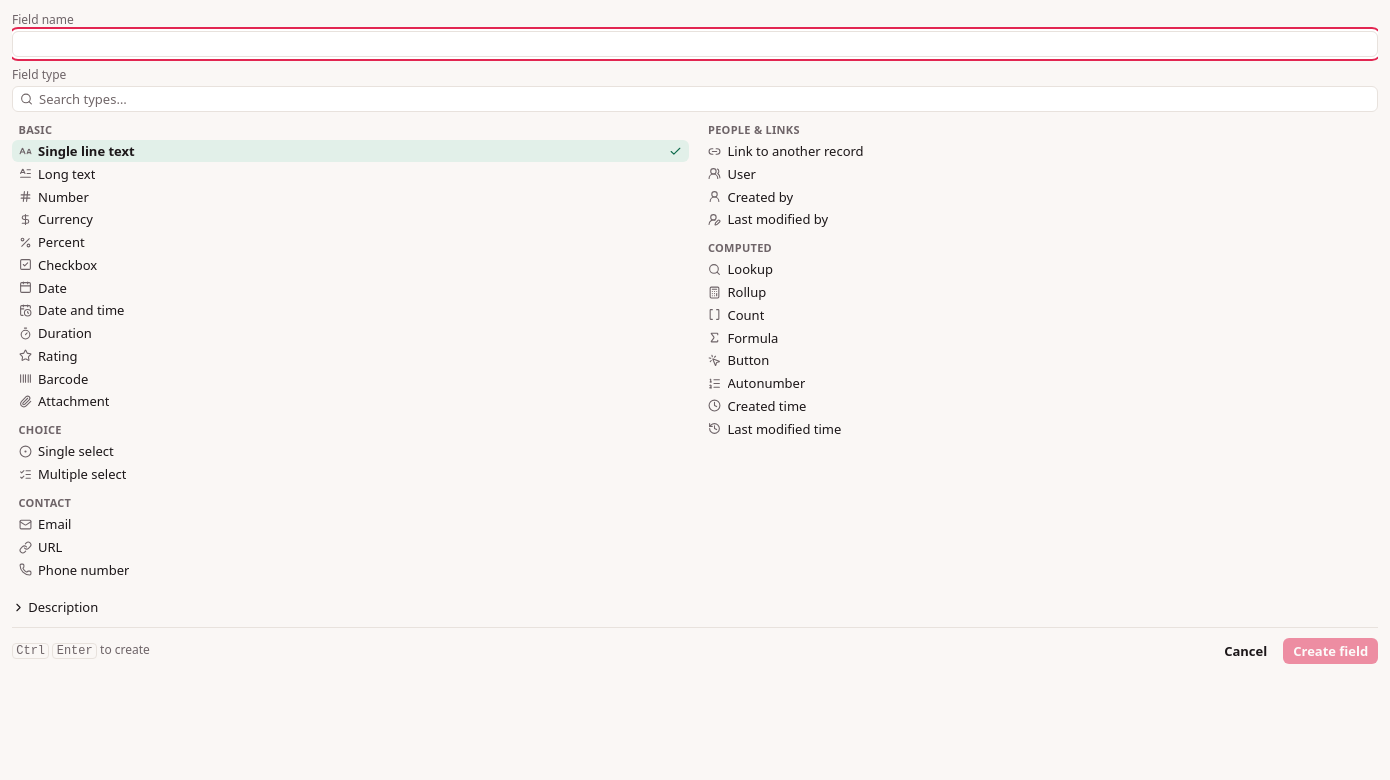
Test case: FieldEditor: lookup, rollup and count (#82) › asks for the missing options before any request
The image size is (1390, 780).
Type "Names" into the field labelled "Field name" at [695, 44], box [12,31,1378,57]
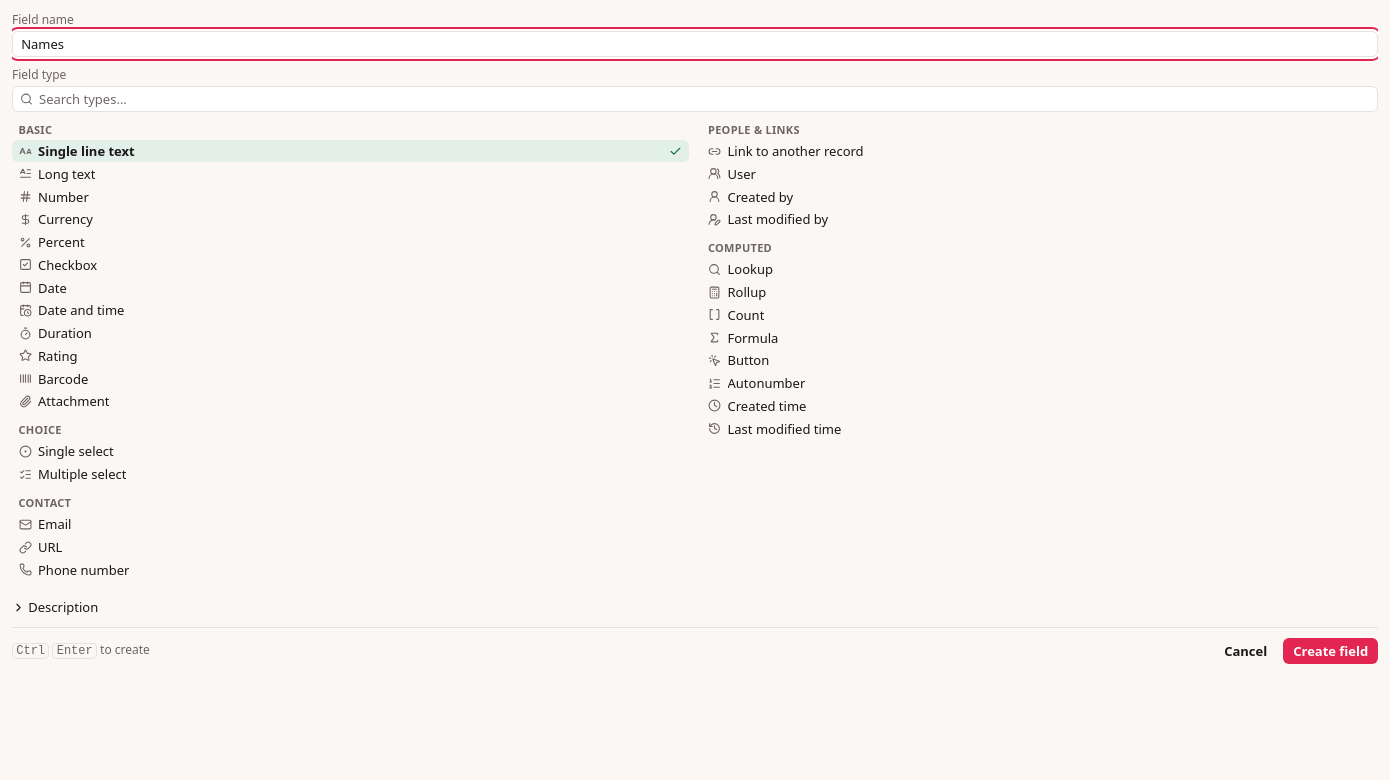
Type "Lookup" into the dropdown named "Search field types" at [695, 99], box [12,86,1378,112]
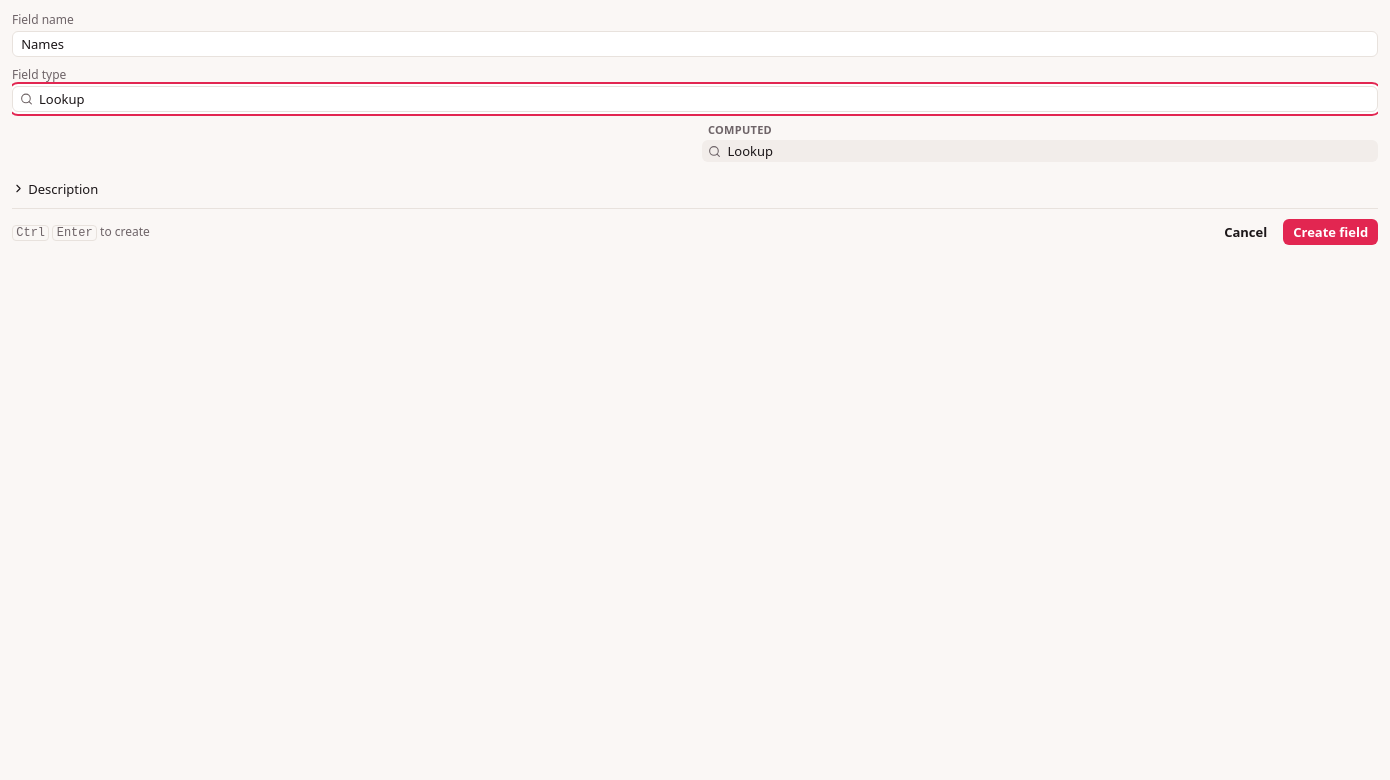
Click the option "Lookup" at [750, 151], box [702,140,1378,162]
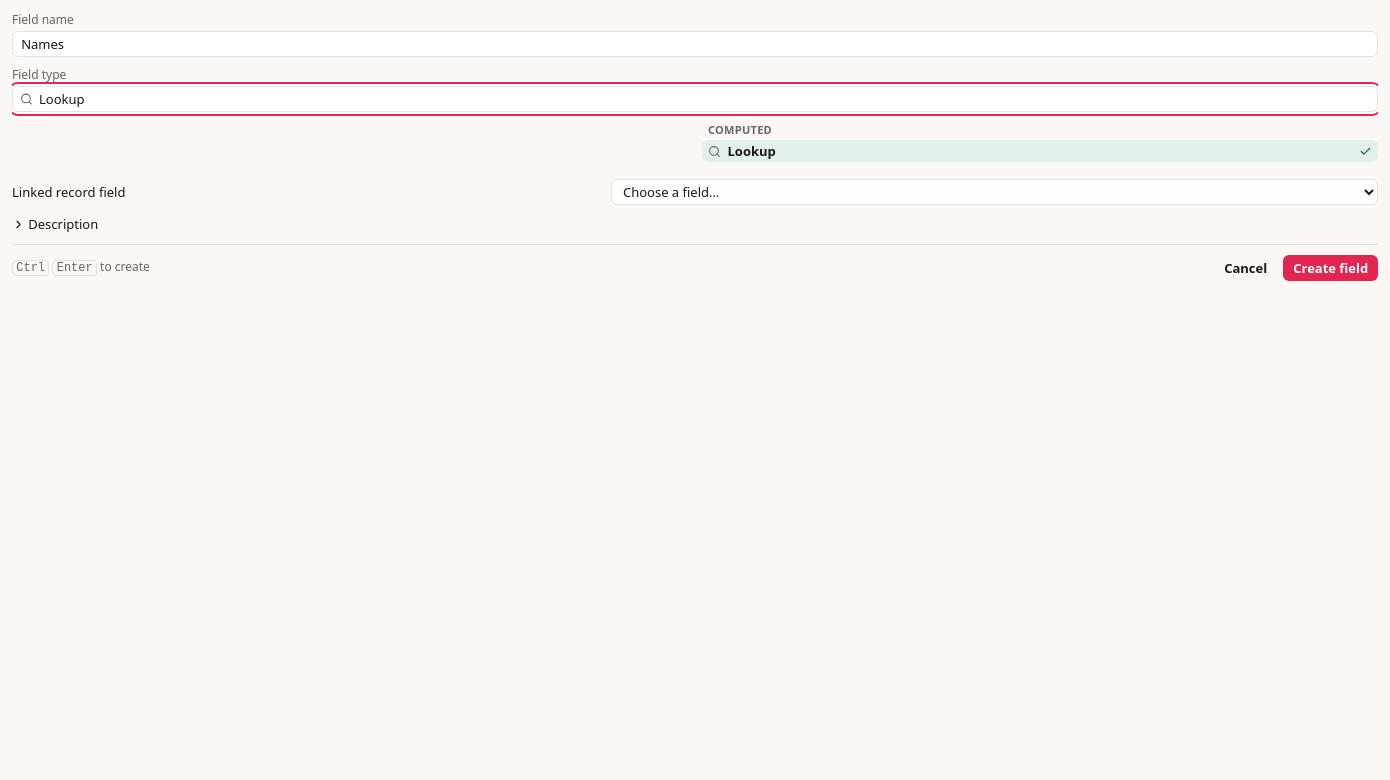
Click the button "Create field" at [1331, 268], box [1284,255,1378,281]
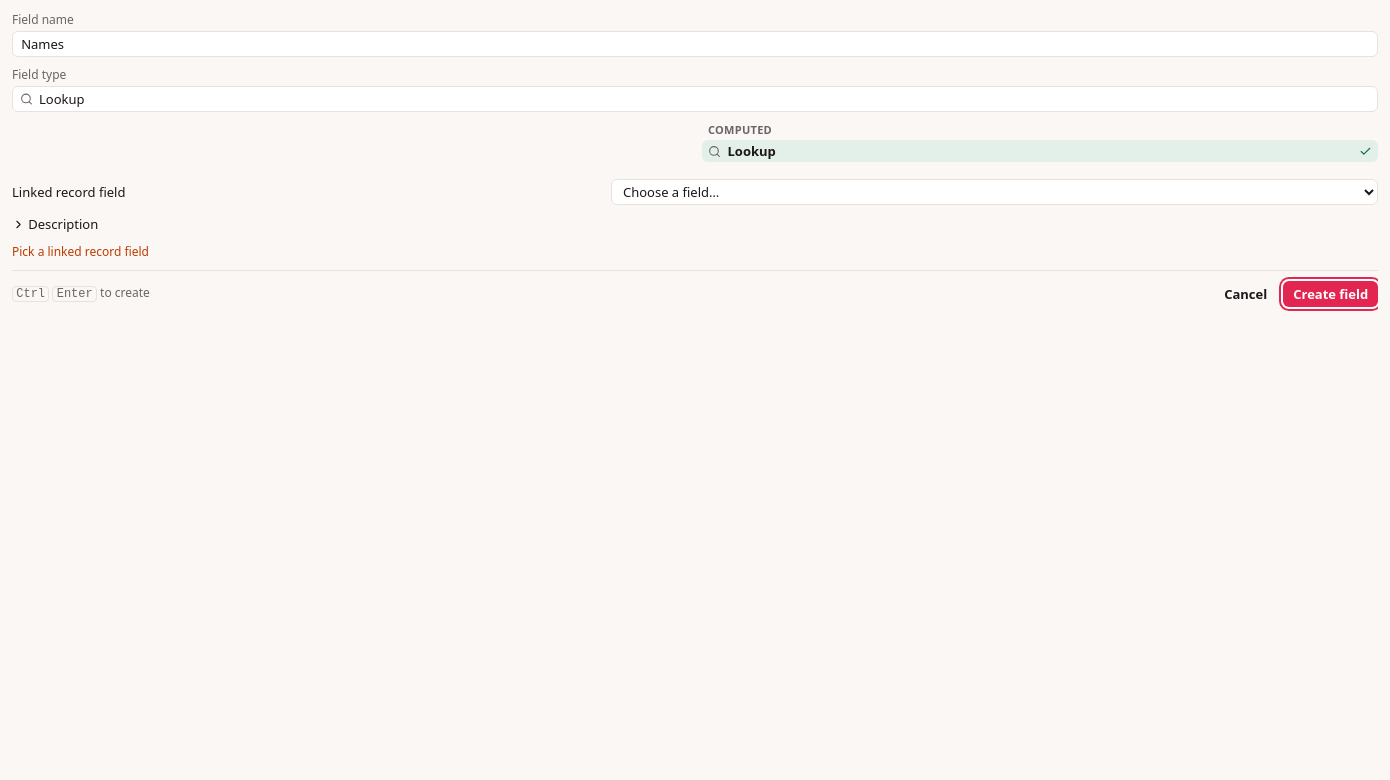
Check: the message reads "Pick a linked record field", box [12,243,149,260]
Select "Project" in the dropdown labelled "Linked record field" at [995, 192], box [611,179,1378,205]
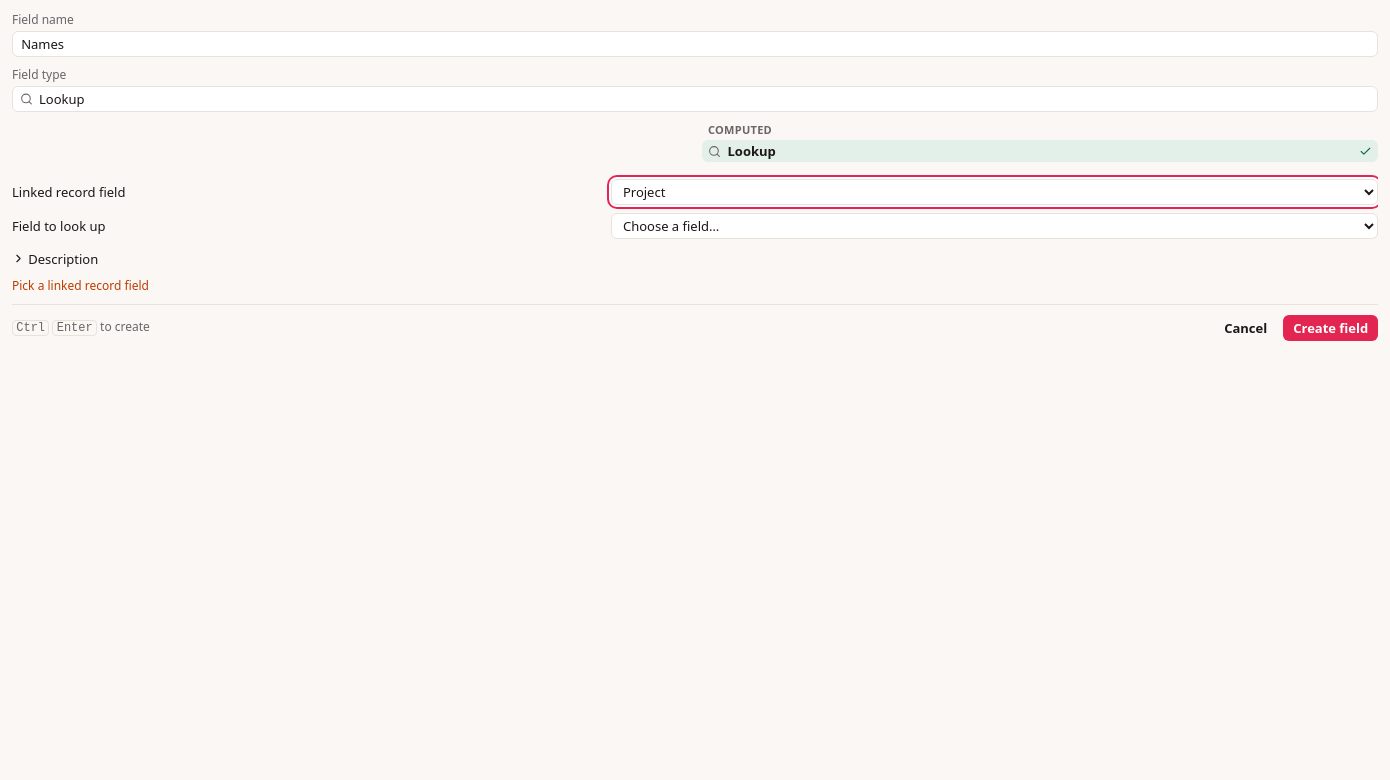
Click the button "Create field" at [1331, 328], box [1284,315,1378,341]
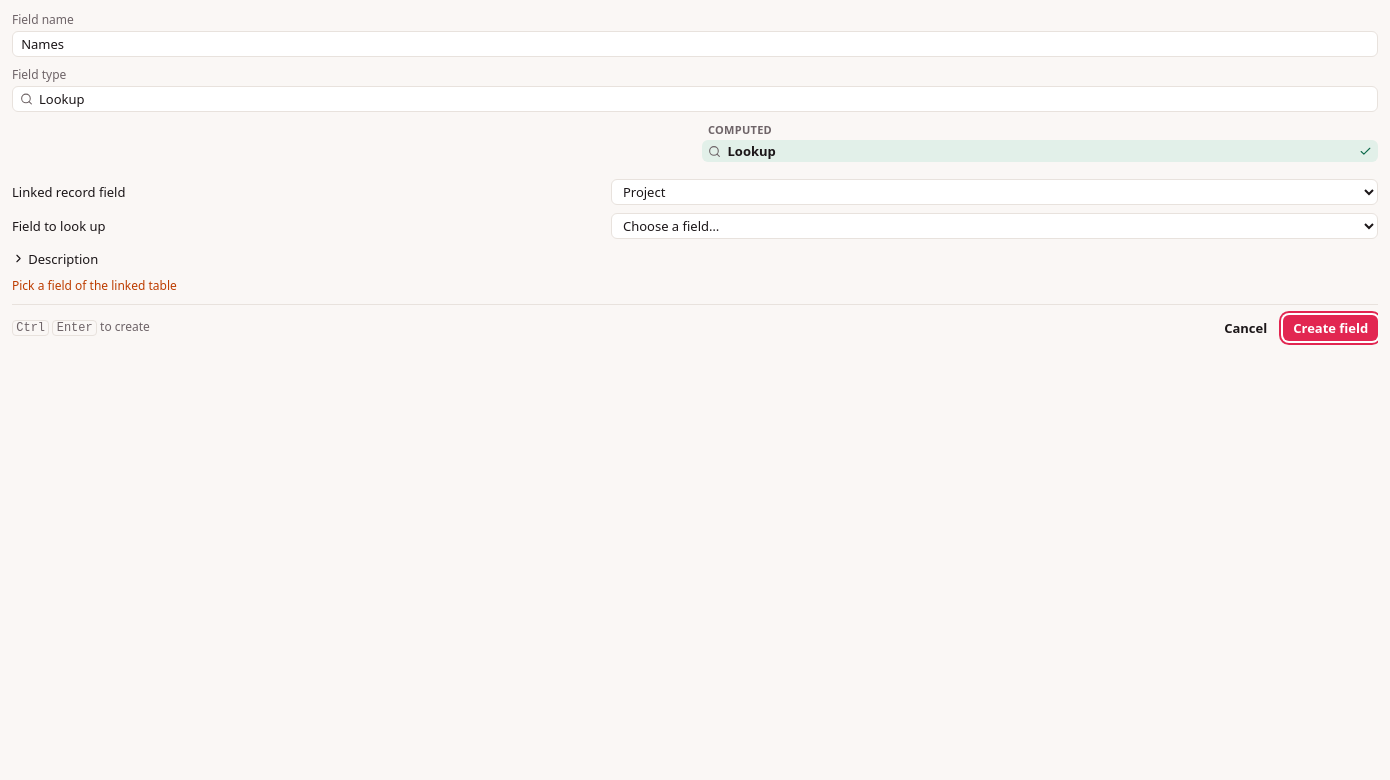
Check: the message reads "Pick a field of the linked table", box [12,277,177,294]
